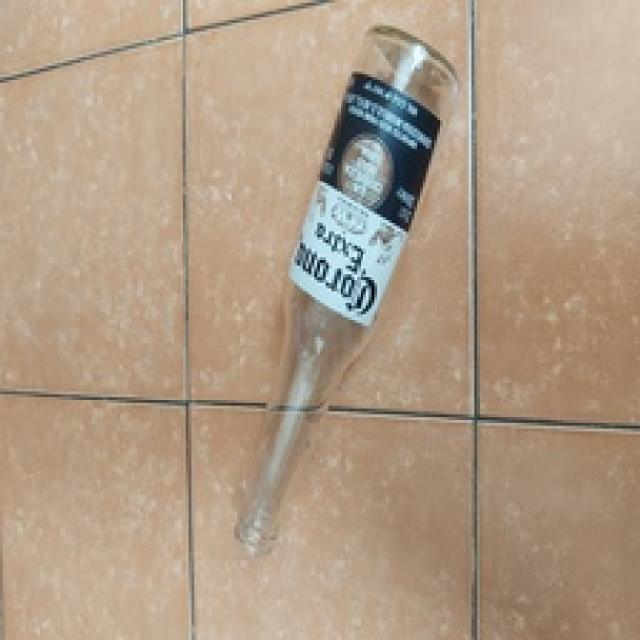Glass: (229, 24, 456, 568)
